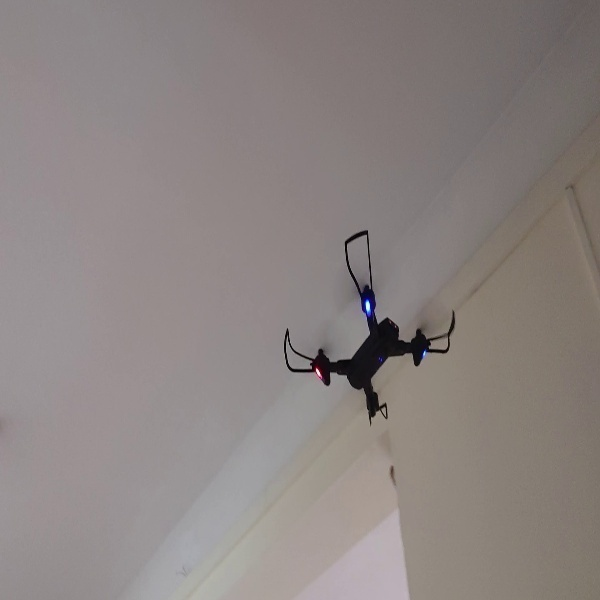drone: (283, 227, 458, 428)
